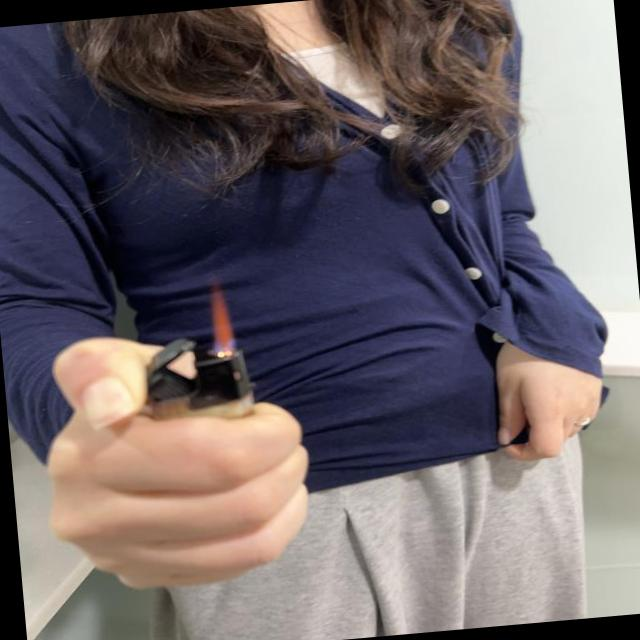Fire: (202, 280, 240, 352)
